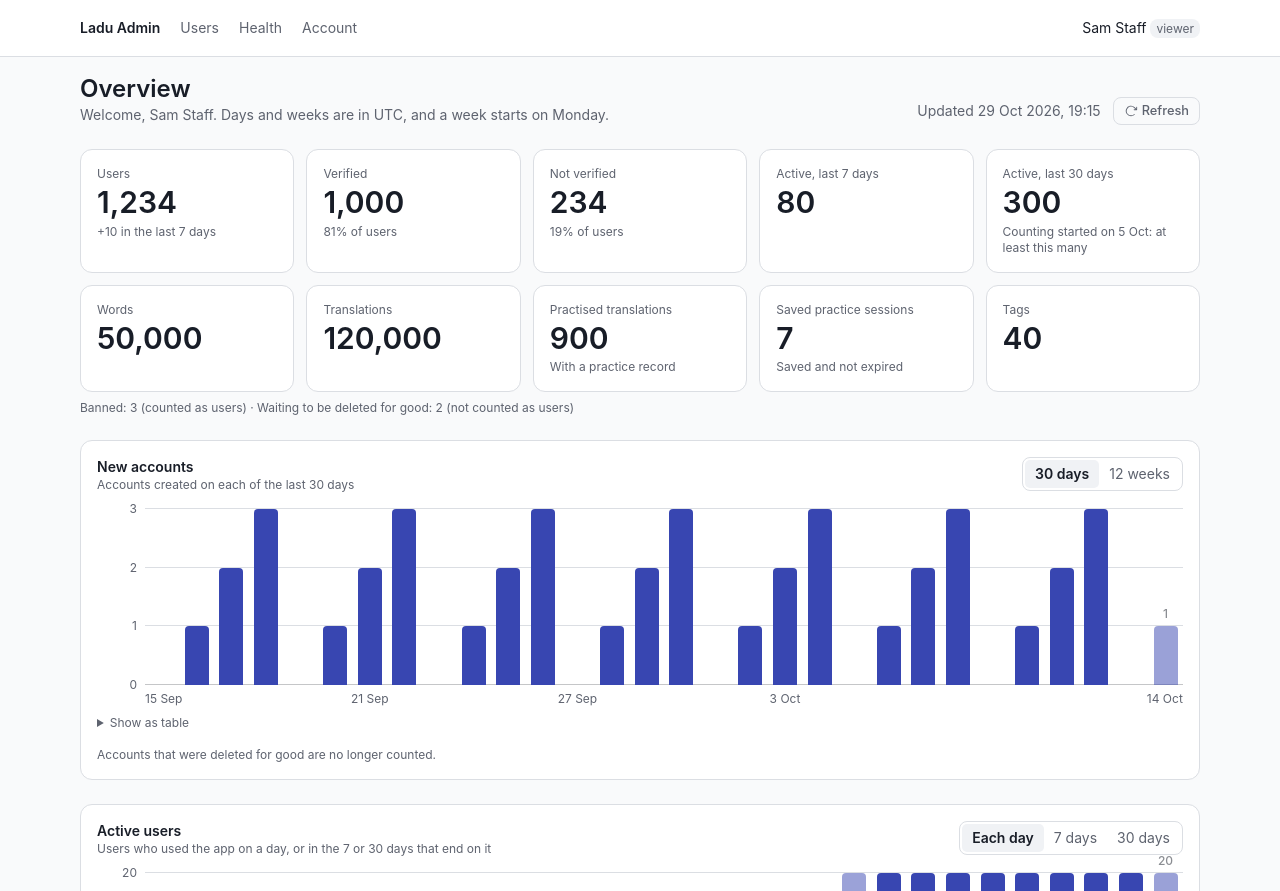
Test: new accounts › has a table view of every value
Check: the text "1,234" is shown, box [97,184,177,220]
Click the heading "Show as table".
click(143, 723)  # box [97,715,189,731]
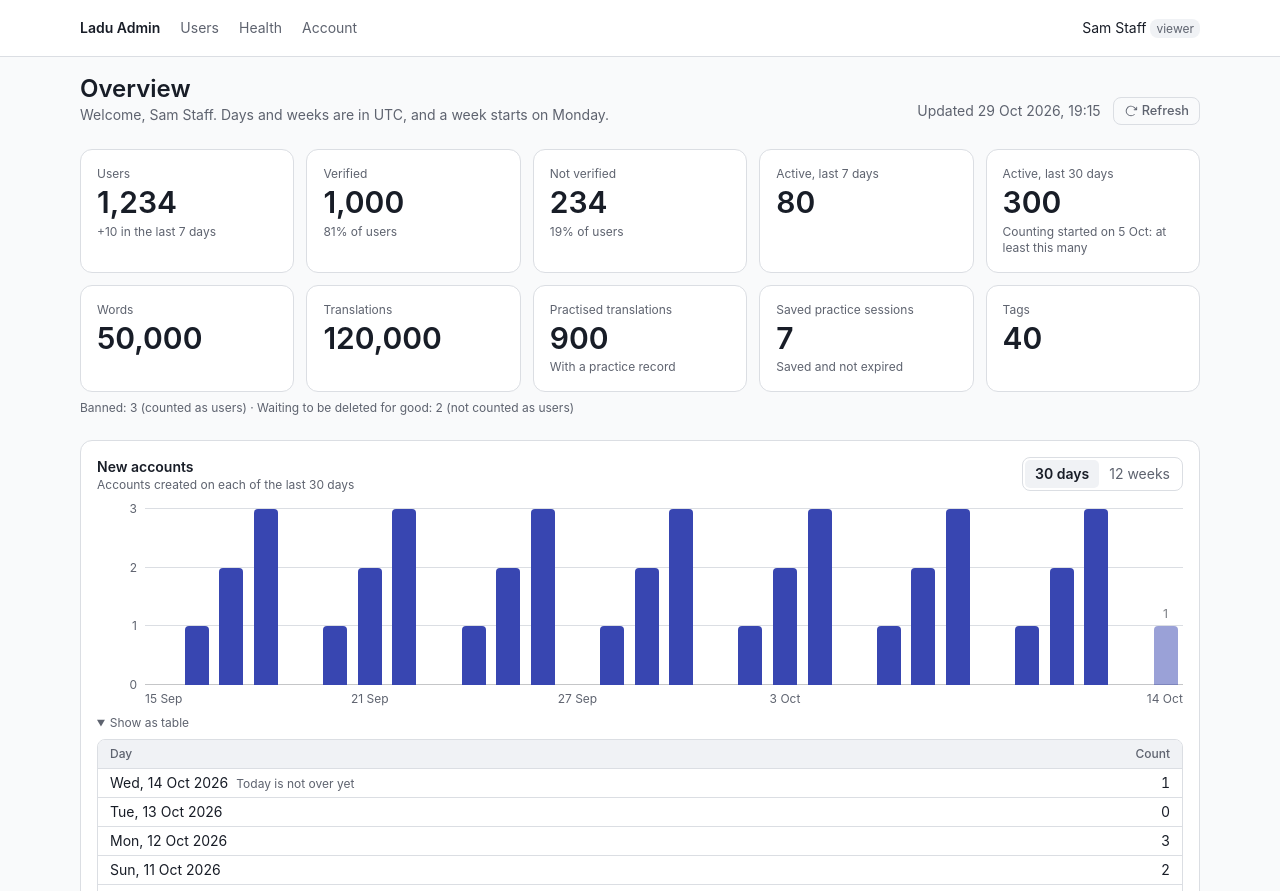
Check: the row "Wed, 14 Oct 2026Today is not over yet 1" is shown, box [98,768,1182,798]
